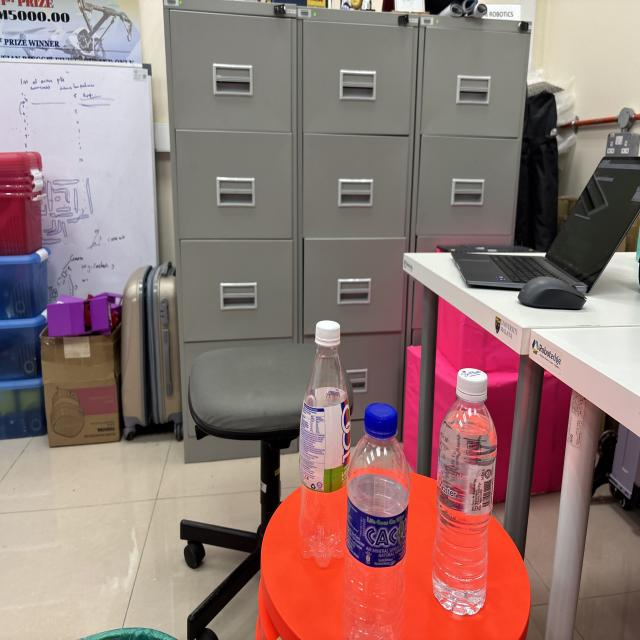plastic_bottle: (423, 348, 504, 630), (342, 390, 415, 640), (289, 309, 356, 572)
